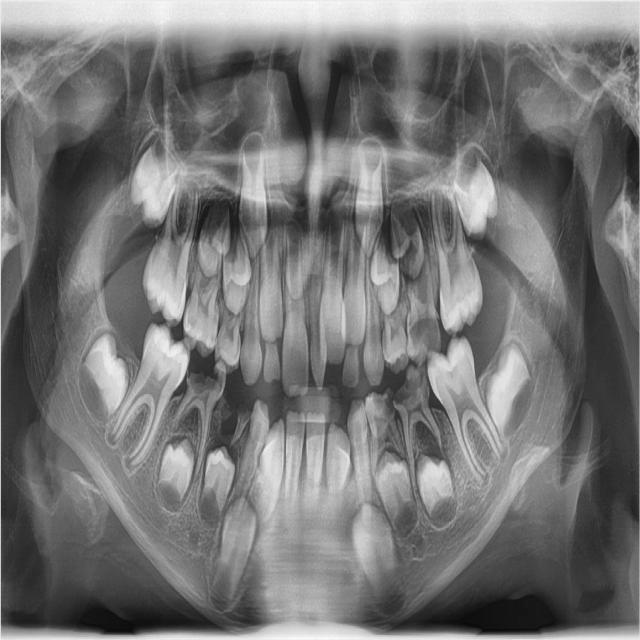Caries: (394, 365, 428, 410), (408, 318, 440, 363), (185, 363, 223, 394), (371, 389, 395, 417)
